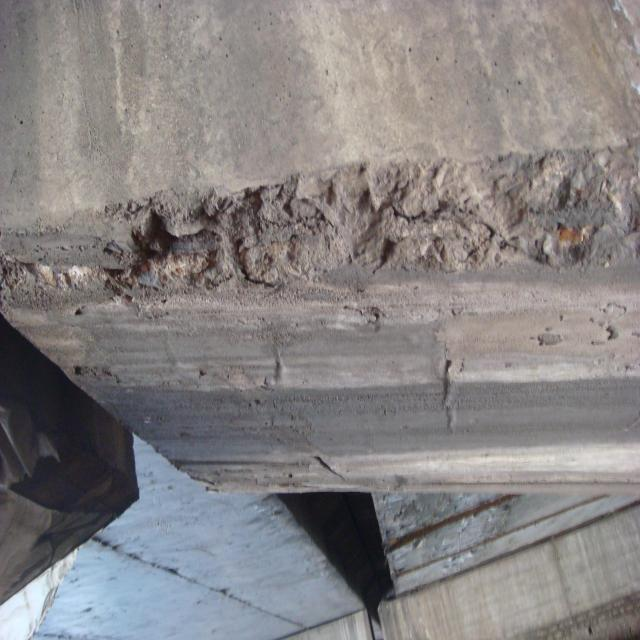concrete spalling: (0, 141, 640, 309)
